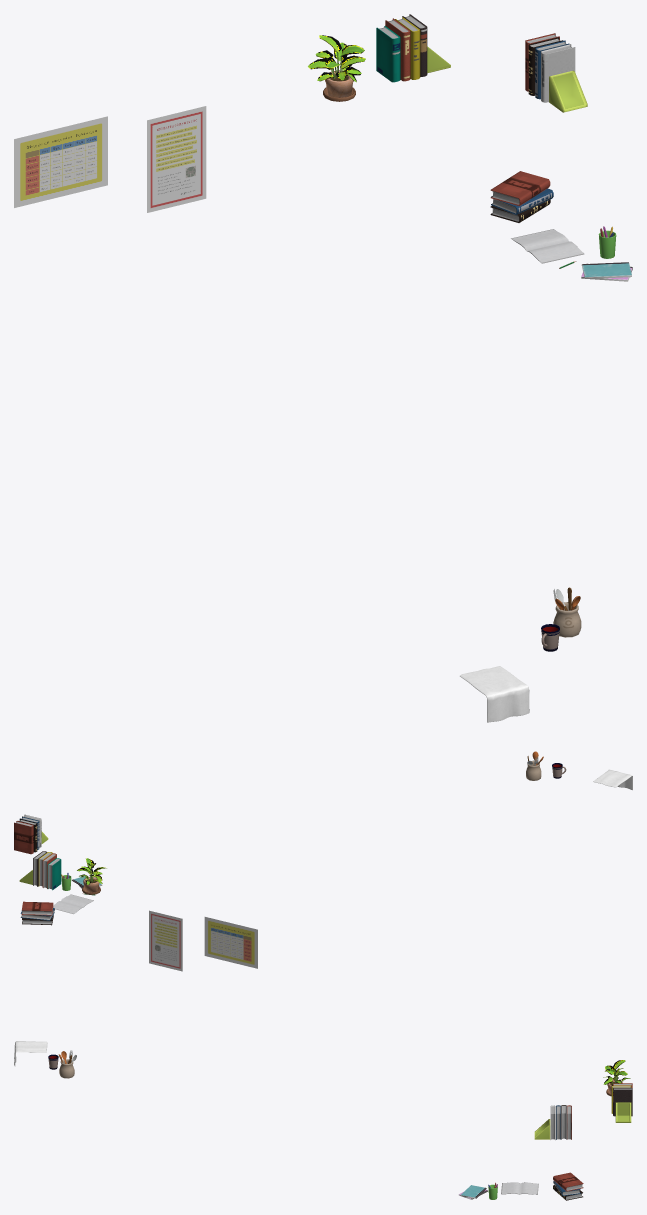
File: a_sch_dorm01_assets.gltf
The picture shows the model from 3 angles, top to bottom: view 1: azimuth 30°, elevation 25°; view 2: azimuth 150°, elevation 25°; view 3: azimuth 270°, elevation 25°; orthographic projection. The views are drawn at different scales.
Parts seen in each view (by area): view 1: um_a_sch_dorm01_assets_model_a_sch_dorm01_assets_modelShape: (×6); view 2: um_a_sch_dorm01_assets_model_a_sch_dorm01_assets_modelShape: (×6); view 3: um_a_sch_dorm01_assets_model_a_sch_dorm01_assets_modelShape: (×5).
Part boxes in pixels (x1,y1,x2,y2): um_a_sch_dorm01_assets_model_a_sch_dorm01_assets_modelShape: (×6): (14, 14, 587, 722); um_a_sch_dorm01_assets_model_a_sch_dorm01_assets_modelShape: (×6): (14, 769, 632, 971); um_a_sch_dorm01_assets_model_a_sch_dorm01_assets_modelShape: (×5): (14, 1041, 632, 1200).
Size of the model in its own units: 4.16 by 1.25 by 7.06.
Materials: 12 (12 with a texture image).
